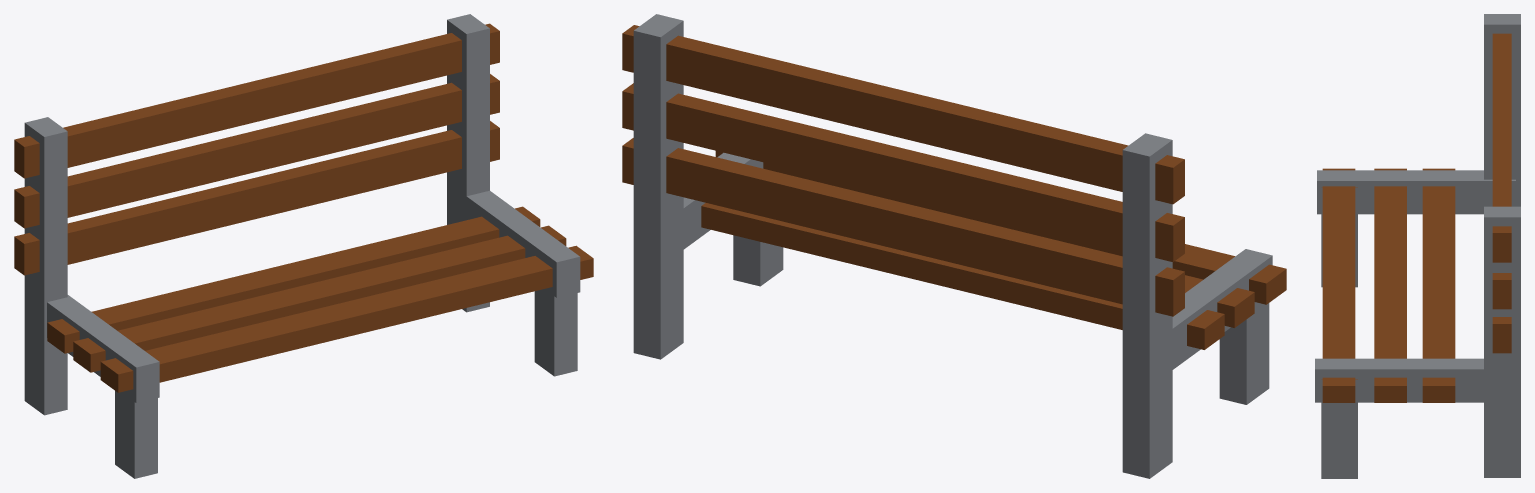
Rendered from banco.fbx.
3 renders of one model, left to right at view 1: azimuth 30°, elevation 25°; view 2: azimuth 150°, elevation 25°; view 3: azimuth 270°, elevation 25°, orthographic. The views are drawn at different scales.
Visible parts, largest first — view 1: Cube; view 2: Cube; view 3: Cube.
Boxes of the visible parts, x1,y1,x2,y2 form: Cube: [14, 14, 593, 478]; Cube: [622, 14, 1286, 478]; Cube: [1315, 14, 1520, 478].
Size of the model in its own units: 697 by 388 by 277.
